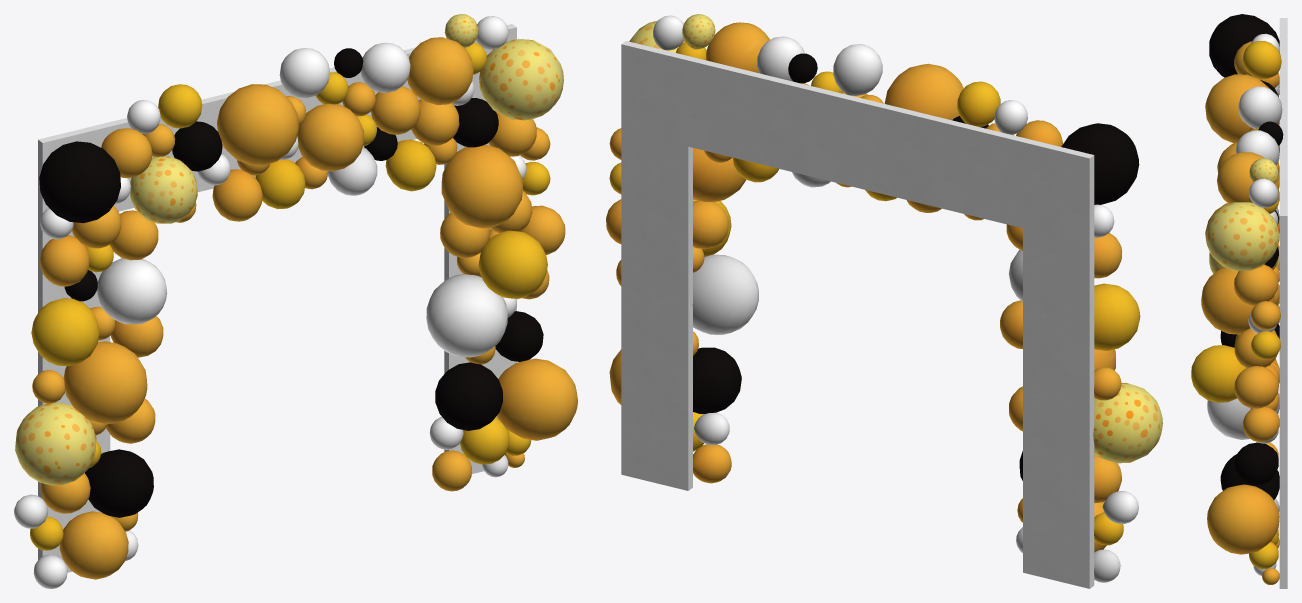
Rendered from PartyBalloons03_GR4_1.FBX.
3 views of the same model, side by side, from view 1: azimuth 30°, elevation 25°; view 2: azimuth 150°, elevation 25°; view 3: azimuth 270°, elevation 25° (orthographic). The views are drawn at different scales.
Parts seen in each view (by area): view 1: PartyBalloons03_GR4_1; view 2: PartyBalloons03_GR4_1; view 3: PartyBalloons03_GR4_1.
Part boxes in pixels (x1,y1,x2,y2): PartyBalloons03_GR4_1: [14, 14, 577, 588]; PartyBalloons03_GR4_1: [606, 14, 1162, 588]; PartyBalloons03_GR4_1: [1191, 14, 1287, 588].
Size of what is drawn, in the model's own units: 4.3 by 3.56 by 0.7634.
